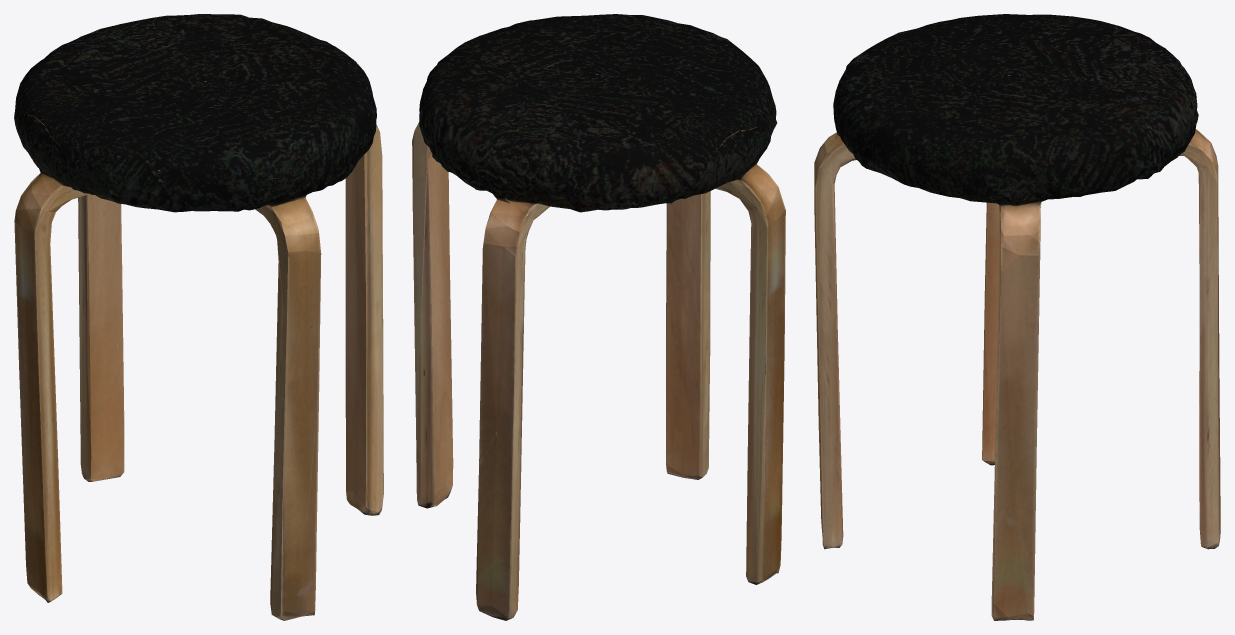
3 views of the same model, side by side, from view 1: azimuth 30°, elevation 25°; view 2: azimuth 150°, elevation 25°; view 3: azimuth 270°, elevation 25° (orthographic).
Parts seen in each view (by area): view 1: Ring Hocker_4k_512; view 2: Ring Hocker_4k_512; view 3: Ring Hocker_4k_512.
Boxes of the visible parts, x1,y1,x2,y2 form: Ring Hocker_4k_512: [14, 14, 383, 620]; Ring Hocker_4k_512: [412, 14, 785, 620]; Ring Hocker_4k_512: [814, 14, 1220, 620].
Size of the model in its own units: 0.3903 by 0.4969 by 0.3902.
Materials: 1 (1 with a texture image).
